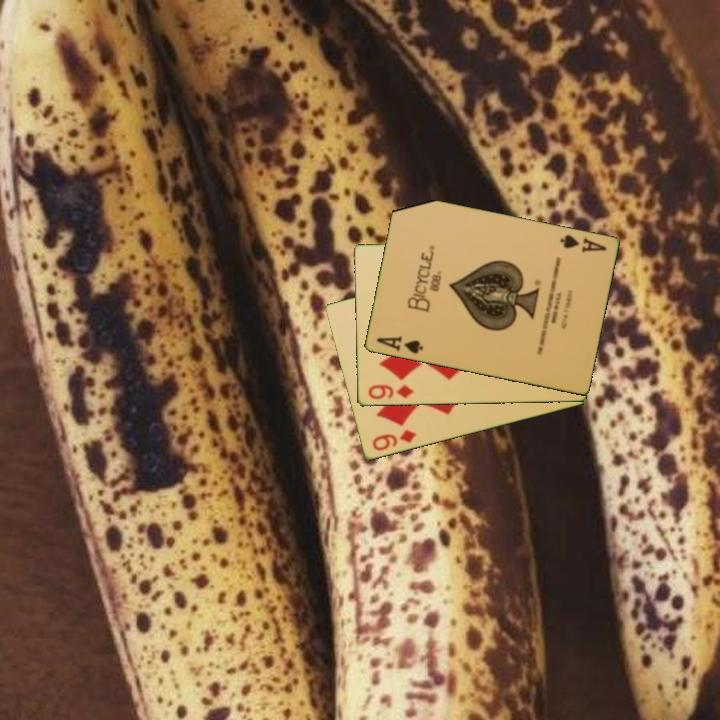9d: (368, 426, 419, 454), (364, 381, 417, 402)
As: (556, 231, 609, 256), (373, 333, 426, 357)
